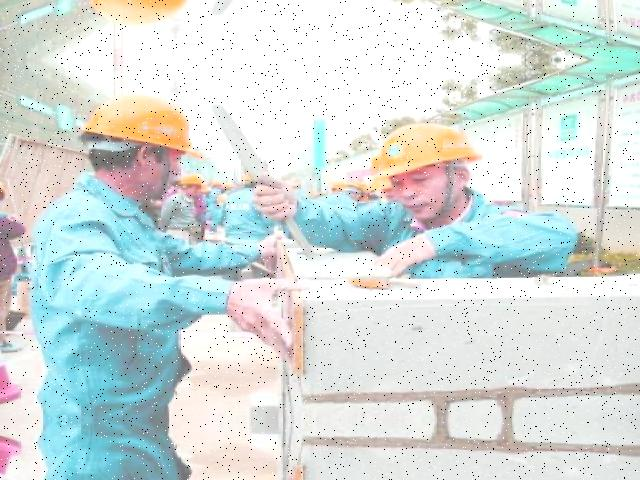Helmet: (70, 88, 204, 164), (364, 116, 484, 188)
